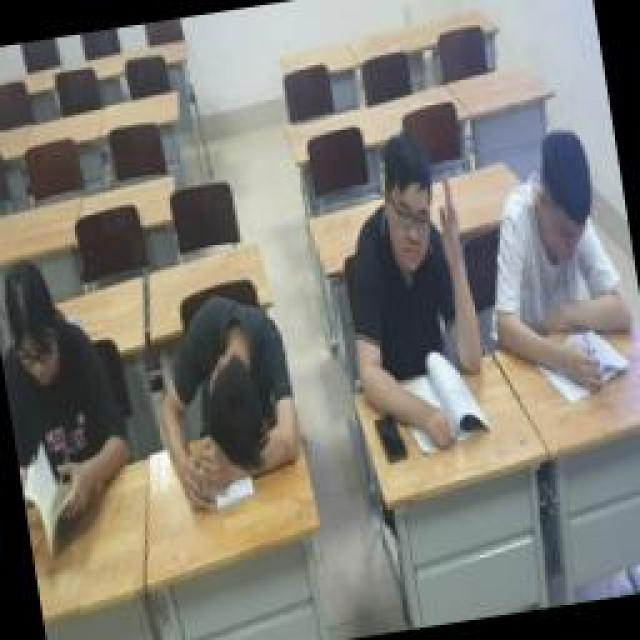sleep: (145, 290, 315, 515)
study: (322, 127, 500, 465), (475, 120, 640, 402), (0, 245, 142, 540)
